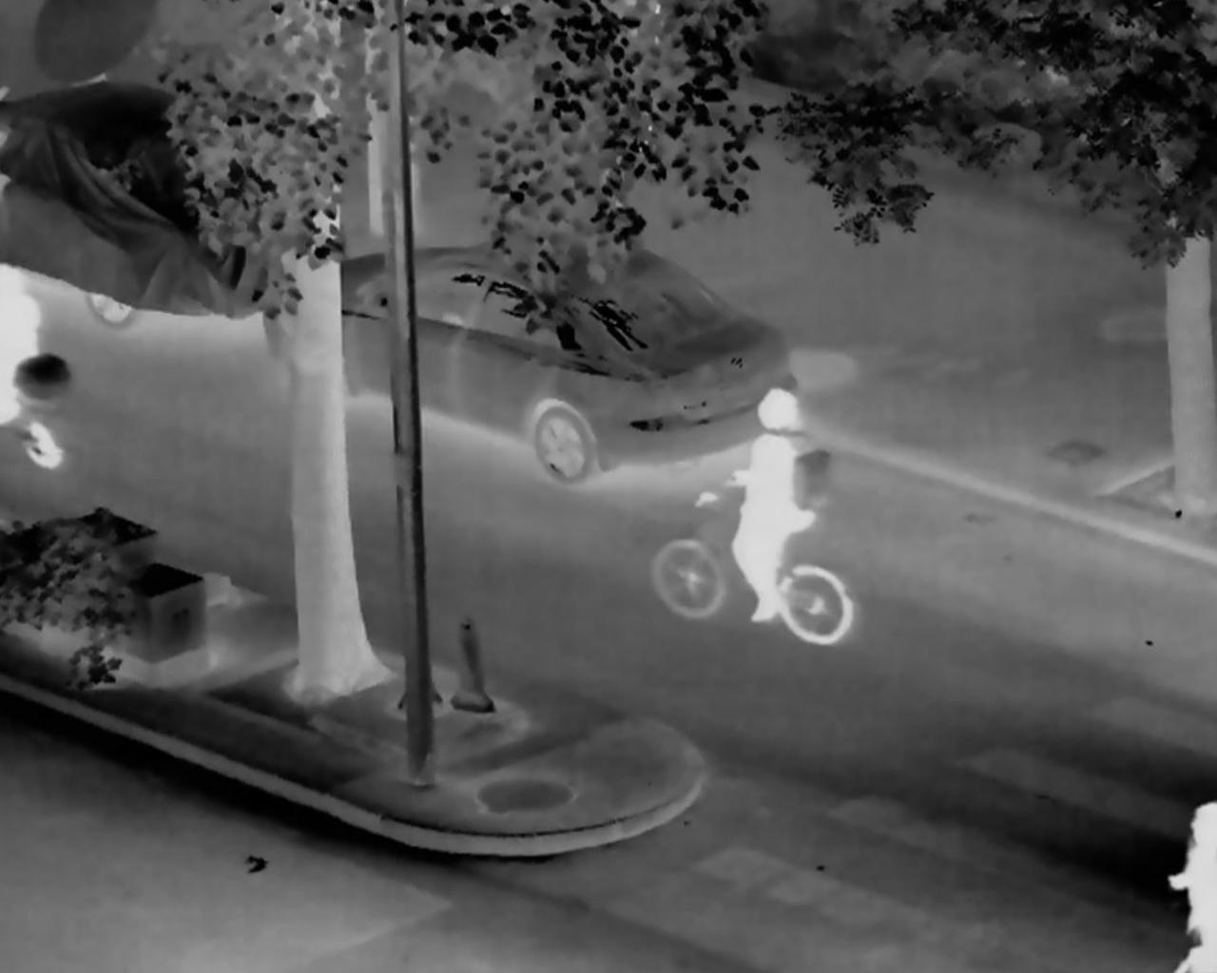person: (701, 383, 823, 623), (1165, 802, 1216, 959)
